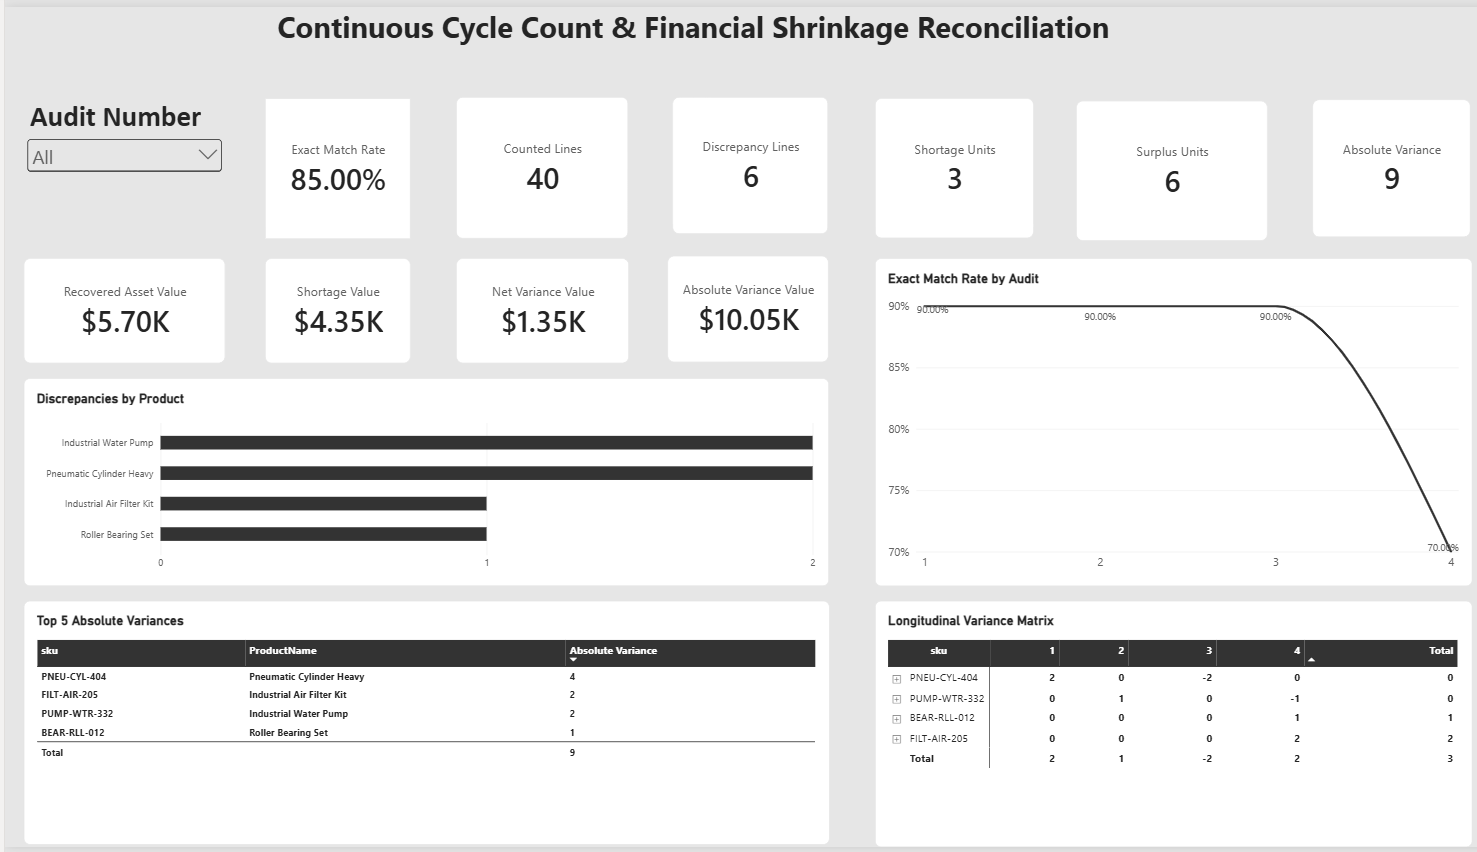

The page's visual inventory and layout, read from the dashboard file:
{"tool":"powerbi","page":{"name":"Page 1","canvas":[1920,1080],"ordinal":0},"visuals":[{"type":"cardVisual","fields":{"Data":["Fact_CycleCounts.Exact Match Rate"]},"box":[385,116.9,235.4,180.8],"z":0},{"type":"cardVisual","fields":{"Data":["Fact_CycleCounts.Discrepancy Lines"]},"box":[648.5,118.5,166.8,180.8],"z":1000},{"type":"cardVisual","fields":{"Data":["Fact_CycleCounts.Counted Lines"]},"box":[838.7,115.4,221.4,182.4],"z":2000},{"type":"slicer","fields":{"Values":["Dim_Audit.AuditNumber"]},"box":[24.4,117.3,325.2,181.1],"z":3000},{"type":"lineChart","title":"Exact Match Rate by Audit","fields":{"Category":["Dim_Audit.AuditNumber"],"Y":["Fact_CycleCounts.Exact Match Rate"]},"box":[1117.7,323.2,767.8,422],"z":4000},{"type":"tableEx","title":"Top 5 Absolute Variances","fields":{"Values":["Dim_Product.sku","Dim_Product.ProductName","Fact_CycleCounts.Absolute Variance"]},"box":[24.4,761.6,1035.3,319],"z":5000},{"type":"cardVisual","fields":{"Data":["Fact_CycleCounts.Shortage Units"]},"box":[1117.7,115.4,248.1,181.6],"z":6000},{"type":"cardVisual","fields":{"Data":["Fact_CycleCounts.Surplus Units"]},"box":[1668,115.4,217.1,181.6],"z":7000},{"type":"clusteredBarChart","title":"Discrepancies by Product","fields":{"Category":["Dim_Product.ProductName"],"Y":["Fact_CycleCounts.Discrepancy Lines"]},"box":[24.4,477.5,1035.3,267.6],"z":8000},{"type":"textbox","box":[350,0,1185.1,82],"z":9000},{"type":"cardVisual","fields":{"Data":["Fact_CycleCounts.Shortage Value"]},"box":[648.5,322.7,190.2,135.6],"z":10000},{"type":"cardVisual","fields":{"Data":["Fact_CycleCounts.Net Variance Value"]},"box":[864.5,323.2,195.5,135.8],"z":11000},{"type":"pivotTable","title":"Longitudinal Variance Matrix","fields":{"Columns":["Dim_Audit.AuditNumber"],"Rows":["Dim_Product.sku","Dim_Product.ProductName"],"Values":["Fact_CycleCounts.Signed Variance"]},"box":[1117.7,761.6,767.8,319],"z":12000},{"type":"cardVisual","fields":{"Data":["Fact_CycleCounts.Absolute Variance"]},"box":[24.9,322.7,162.1,135.6],"z":13000},{"type":"cardVisual","fields":{"Data":["Fact_CycleCounts.Recovered Asset Value"]},"box":[384.9,323.2,234.6,135.8],"z":14000}]}

Visuals, with their boxes in screenshot pixels (x1, y1, x2, y2), scaled from the page's 1920x1080 canvas onto the 1477x852 screenshot:
cardVisual - Fact_CycleCounts.Exact Match Rate: (x1=296, y1=92, x2=477, y2=235)
cardVisual - Fact_CycleCounts.Discrepancy Lines: (x1=499, y1=93, x2=627, y2=236)
cardVisual - Fact_CycleCounts.Counted Lines: (x1=645, y1=91, x2=816, y2=235)
slicer - Dim_Audit.AuditNumber: (x1=19, y1=93, x2=269, y2=235)
"Exact Match Rate by Audit" lineChart: (x1=860, y1=255, x2=1450, y2=588)
"Top 5 Absolute Variances" tableEx: (x1=19, y1=601, x2=815, y2=851)
cardVisual - Fact_CycleCounts.Shortage Units: (x1=860, y1=91, x2=1051, y2=234)
cardVisual - Fact_CycleCounts.Surplus Units: (x1=1283, y1=91, x2=1450, y2=234)
"Discrepancies by Product" clusteredBarChart: (x1=19, y1=377, x2=815, y2=588)
textbox: (x1=269, y1=0, x2=1181, y2=65)
cardVisual - Fact_CycleCounts.Shortage Value: (x1=499, y1=255, x2=645, y2=362)
cardVisual - Fact_CycleCounts.Net Variance Value: (x1=665, y1=255, x2=815, y2=362)
"Longitudinal Variance Matrix" pivotTable: (x1=860, y1=601, x2=1450, y2=851)
cardVisual - Fact_CycleCounts.Absolute Variance: (x1=19, y1=255, x2=144, y2=362)
cardVisual - Fact_CycleCounts.Recovered Asset Value: (x1=296, y1=255, x2=477, y2=362)
